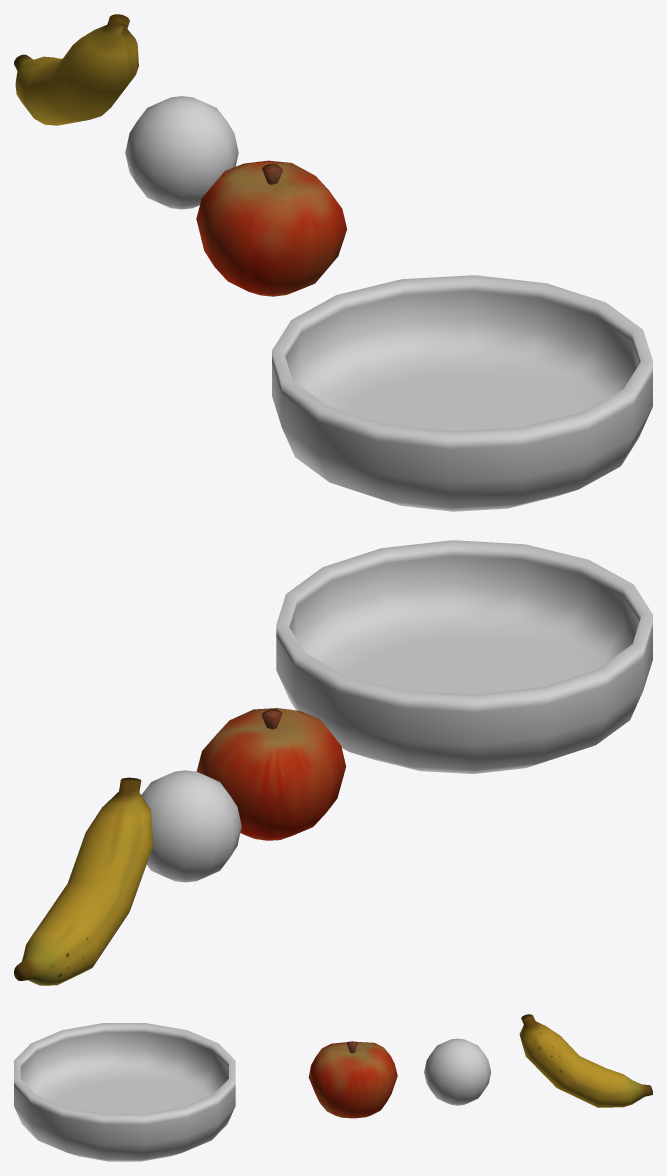
File: Banana.fbx
3 renders of one model, top to bottom at view 1: azimuth 30°, elevation 25°; view 2: azimuth 150°, elevation 25°; view 3: azimuth 270°, elevation 25°, orthographic. The views are drawn at different scales.
Visible parts, largest first — view 1: Bowl, Apple, Orange, banaan; view 2: Bowl, Apple, banaan, Orange; view 3: Bowl, Apple, banaan, Orange.
Boxes of the visible parts, bbox=[...] form: Bowl: bbox=[272, 275, 652, 511]; Apple: bbox=[196, 160, 346, 296]; Orange: bbox=[125, 96, 238, 209]; banaan: bbox=[14, 14, 138, 125]; Bowl: bbox=[276, 540, 652, 773]; Apple: bbox=[196, 708, 345, 840]; banaan: bbox=[14, 777, 153, 985]; Orange: bbox=[141, 770, 241, 882]; Bowl: bbox=[14, 1023, 235, 1161]; Apple: bbox=[308, 1041, 397, 1118]; banaan: bbox=[519, 1014, 652, 1107]; Orange: bbox=[424, 1038, 491, 1105].
Bounding box in the file's own units: 626 × 344 × 1807.
